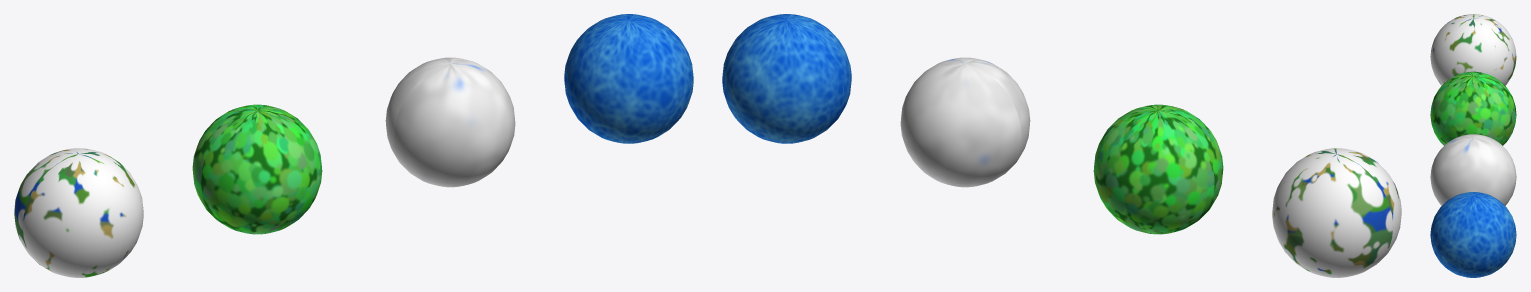
The model's file is Worlds.fbx.
3 renders of one model, left to right at view 1: azimuth 30°, elevation 25°; view 2: azimuth 150°, elevation 25°; view 3: azimuth 270°, elevation 25°, orthographic. The views are drawn at different scales.
Visible parts, largest first — view 1: H2like, O2like, Earthlike, H2Olike; view 2: H2like, O2like, Earthlike, H2Olike; view 3: H2Olike, O2like, H2like, Earthlike.
Part boxes in pixels (x1,y1,x2,y2): H2like: (385, 57, 515, 187); O2like: (192, 104, 322, 234); Earthlike: (14, 148, 143, 277); H2Olike: (564, 14, 693, 143); H2like: (900, 57, 1030, 187); O2like: (1093, 104, 1223, 234); Earthlike: (1272, 148, 1401, 277); H2Olike: (722, 14, 851, 143); H2Olike: (1430, 192, 1516, 277); O2like: (1430, 71, 1516, 145); H2like: (1430, 134, 1516, 205); Earthlike: (1430, 14, 1516, 85).
Bounding box in the file's own units: 1177 × 200 × 200.
Materials: 4 (4 with a texture image).
